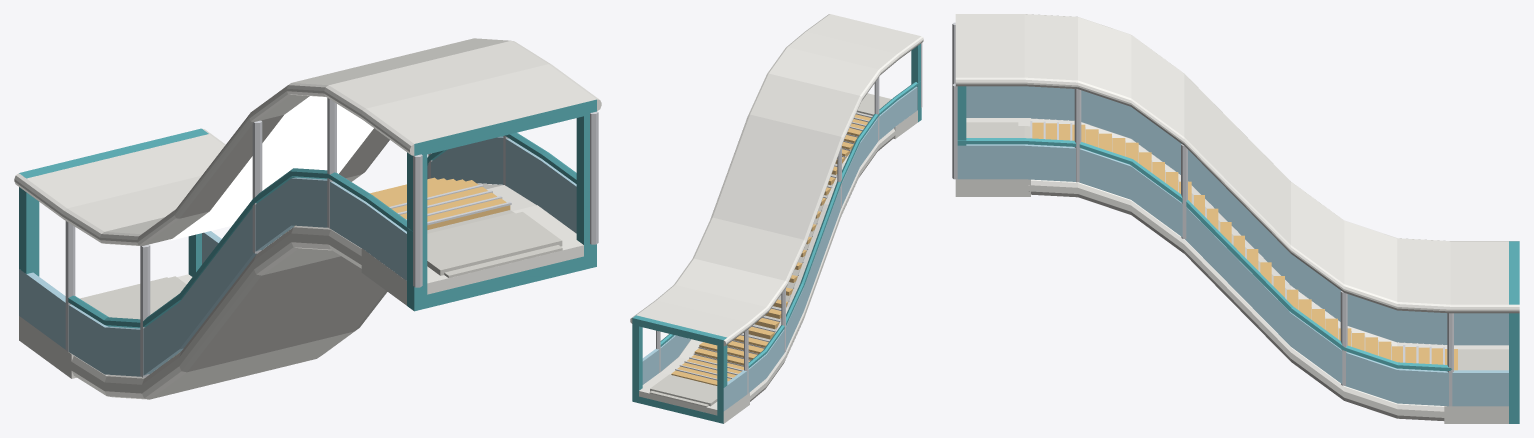
The model's file is arcology-towers-and-skyways-transit-escalator-link-93e45179__23255.glb.
3 renders of one model, left to right at view 1: azimuth 30°, elevation 25°; view 2: azimuth 150°, elevation 25°; view 3: azimuth 270°, elevation 25°, orthographic. The views are drawn at different scales.
Visible parts, largest first — view 1: transit-escalator-link; view 2: transit-escalator-link; view 3: transit-escalator-link.
Part boxes in pixels (bbox=[...]): transit-escalator-link: bbox=[14, 38, 601, 399]; transit-escalator-link: bbox=[630, 14, 923, 423]; transit-escalator-link: bbox=[952, 14, 1519, 423].
Bounding box in the file's own units: 5.04 × 12.2 × 18.11.
